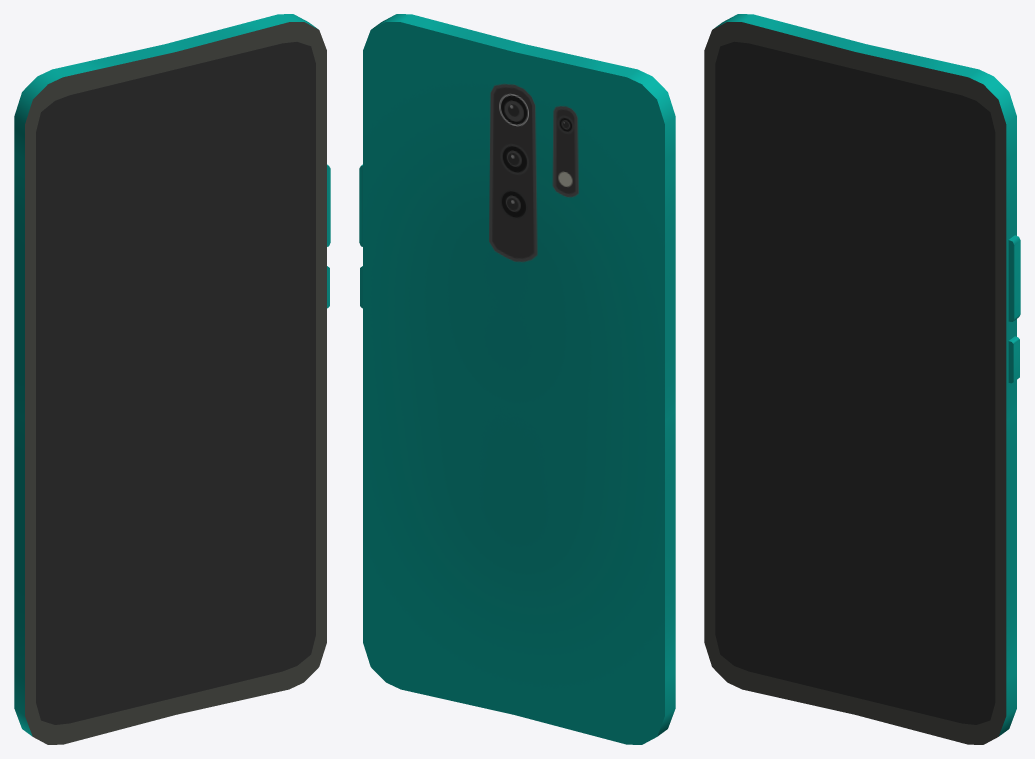
Rendered from Smartphone.fbx.
3 renders of one model, left to right at view 1: azimuth 30°, elevation 25°; view 2: azimuth 150°, elevation 25°; view 3: azimuth 330°, elevation 25°, orthographic.
Parts seen in each view (by area): view 1: pCube1; view 2: pCube1; view 3: pCube1.
Boxes of the visible parts, x1,y1,x2,y2 form: pCube1: (14,14,330,744); pCube1: (359,14,675,744); pCube1: (704,14,1020,744).
Size of the model in its own units: 3.94 by 8.17 by 0.2382.
